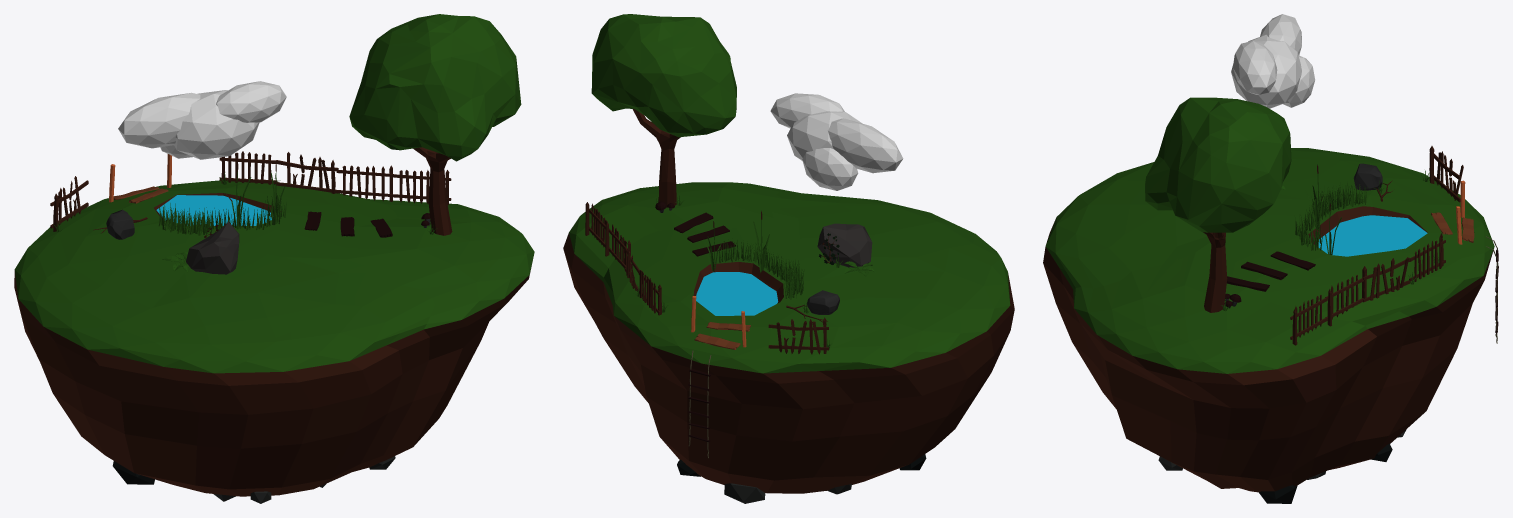
File: skyisland.obj
3 views of the same model, side by side, from view 1: azimuth 30°, elevation 25°; view 2: azimuth 150°, elevation 25°; view 3: azimuth 270°, elevation 25° (orthographic). The views are drawn at different scales.
Visible parts, largest first — view 1: FlyingIsland, Tree, Cloud_3, Cylinder, Stone_3, PT_Modular_Fence_Wood_03, PT_Modular_Fence_Wood_02, PT_Modular_Fence_Wood_01, PT_Modular_Fence_Wood_03.001, PT_Modular_Fence_Wood_01.001, PT_Generic_Rock_01_LOD0; view 2: FlyingIsland, Tree, Cloud_3, Cylinder, Stone_3, PT_Modular_Fence_Wood_03.001, PT_Generic_Rock_01_LOD0, PT_Modular_Fence_Wood_01, GroundStone.001, PT_Modular_Fence_Wood_01.001, PT_Modular_Fence_Wood_02; view 3: FlyingIsland, Tree, Cloud_3, Cylinder, PT_Modular_Fence_Wood_03, PT_Modular_Fence_Wood_03.001, PT_Modular_Fence_Wood_01.001, PT_Modular_Fence_Wood_02, PT_Modular_Fence_Wood_01, PT_Generic_Rock_01_LOD0.
Part boxes in pixels (x1,y1,x2,y2): FlyingIsland: (14,180,534,496); Tree: (349,14,521,235); Cloud_3: (118,81,286,159); Cylinder: (156,195,271,225); Stone_3: (186,221,239,274); PT_Modular_Fence_Wood_03: (276,152,338,193); PT_Modular_Fence_Wood_02: (336,165,394,201); PT_Modular_Fence_Wood_01: (219,151,277,184); PT_Modular_Fence_Wood_03.001: (50,176,88,231); PT_Modular_Fence_Wood_01.001: (393,170,451,205); PT_Generic_Rock_01_LOD0: (106,209,134,239); FlyingIsland: (563,182,1014,493); Tree: (591,14,736,207); Cloud_3: (770,93,903,190); Cylinder: (696,272,778,315); Stone_3: (817,223,872,267); PT_Modular_Fence_Wood_03.001: (768,317,828,354); PT_Generic_Rock_01_LOD0: (807,290,839,314); PT_Modular_Fence_Wood_01: (638,270,661,315); GroundStone.001: (724,483,765,503); PT_Modular_Fence_Wood_01.001: (585,202,607,247); PT_Modular_Fence_Wood_02: (605,222,627,268); FlyingIsland: (1043,148,1494,492); Tree: (1145,97,1291,312); Cloud_3: (1231,14,1315,108); Cylinder: (1318,215,1427,256); PT_Modular_Fence_Wood_03: (1362,257,1410,302); PT_Modular_Fence_Wood_03.001: (1429,146,1463,202); PT_Modular_Fence_Wood_01.001: (1290,295,1327,345); PT_Modular_Fence_Wood_02: (1325,275,1363,326); PT_Modular_Fence_Wood_01: (1409,233,1445,281); PT_Generic_Rock_01_LOD0: (1353,163,1382,190).
Bounding box in the file's own units: 23.52 × 21.55 × 20.32.
Materials: 56 (3 with a texture image).
